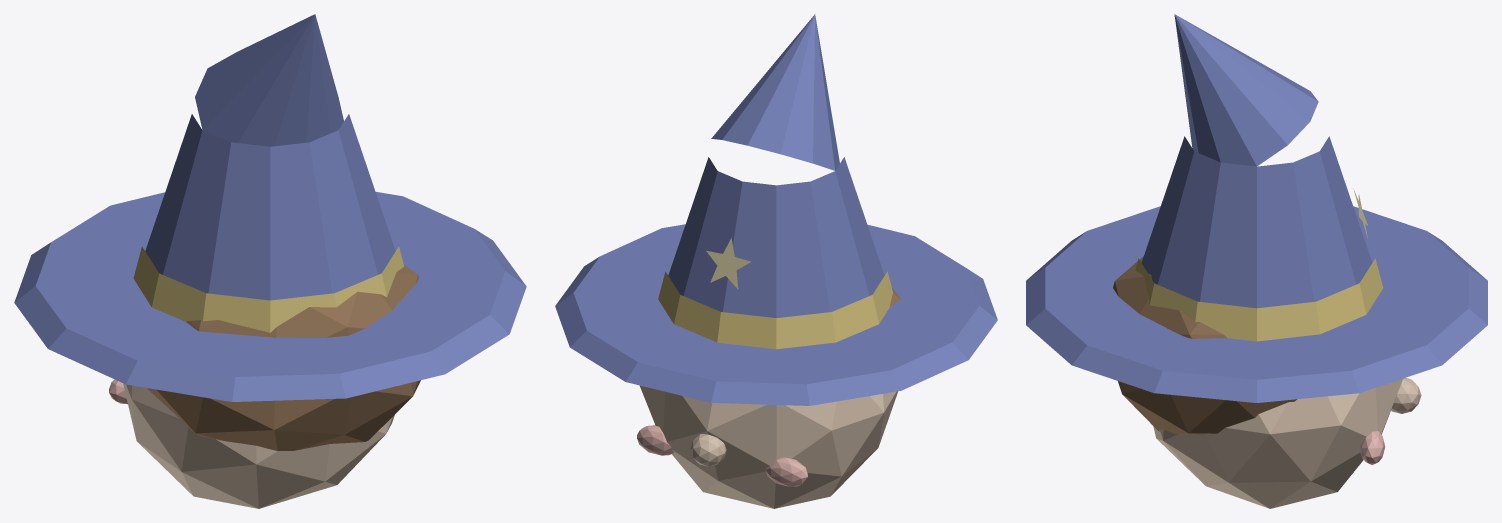
The model's file is player_head.glb.
3 renders of one model, left to right at view 1: azimuth 30°, elevation 25°; view 2: azimuth 150°, elevation 25°; view 3: azimuth 270°, elevation 25°, orthographic. The views are drawn at different scales.
Visible parts, largest first — view 1: player_head; view 2: player_head; view 3: player_head.
Part boxes in pixels (left/top/right/bottom): player_head: left=14, top=14, right=526, bottom=508; player_head: left=555, top=14, right=997, bottom=508; player_head: left=1026, top=14, right=1487, bottom=508.
Bounding box in the file's own units: 0.72 × 0.8053 × 0.7019.
